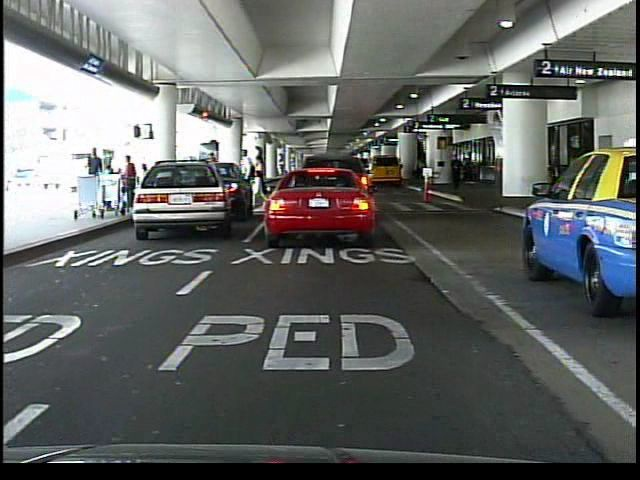person: (199, 150, 223, 205), (238, 147, 256, 219), (86, 148, 106, 208), (308, 152, 326, 203), (450, 153, 464, 191)
